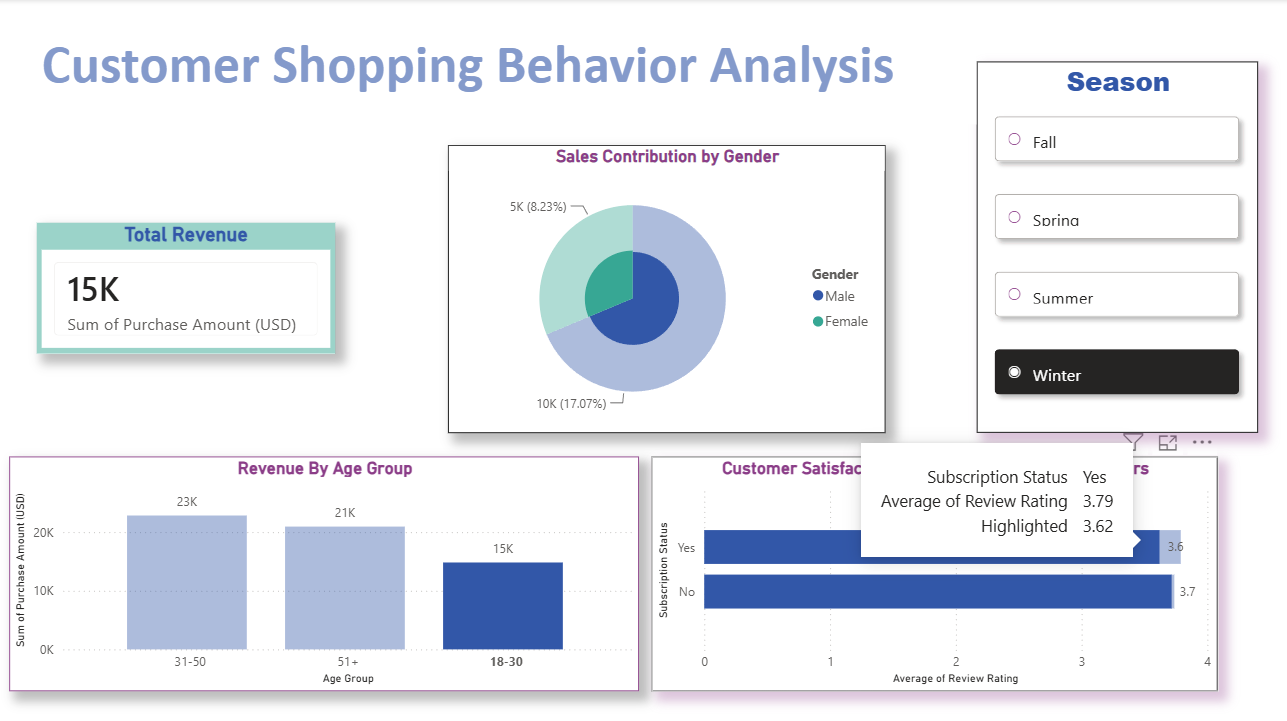

The dashboard page shown, as its layout file describes it:
{"tool":"powerbi","page":{"name":"Page 1","canvas":[1280,720],"ordinal":0},"visuals":[{"type":"cardVisual","title":"Total Revenue","fields":{"Data":["Sum(customer_shopping_behavior_1.Purchase Amount (USD))"]},"box":[37.9,218.9,292.3,128.4],"z":0},{"type":"pieChart","title":"Sales Contribution by Gender","fields":{"Category":["customer_shopping_behavior_1.Gender"],"Y":["Sum(customer_shopping_behavior_1.Purchase Amount (USD))"]},"box":[440.2,143.1,428,281.3],"z":1},{"type":"clusteredColumnChart","title":"Revenue By Age Group","fields":{"Category":["customer_shopping_behavior_1.Age Group"],"Y":["Sum(customer_shopping_behavior_1.Purchase Amount (USD))"]},"box":[11,447.6,616.3,229.9],"z":2},{"type":"clusteredBarChart","title":"Customer Satisfaction: Subscribers vs Non-Subscribers","fields":{"Y":["Avg(customer_shopping_behavior_1.Review Rating)"],"Category":["customer_shopping_behavior_1.Subscription Status"]},"box":[639.5,447.6,553.9,229.9],"z":3},{"type":"advancedSlicerVisual","fields":{"Values":["customer_shopping_behavior_1.Season"]},"box":[957.5,61.1,275.1,363.2],"z":4},{"type":"textbox","box":[37.9,25.7,919.6,96.6],"z":5}]}

Visuals, with their boxes in screenshot pixels (x1, y1, x2, y2), scaled from the page's 1280x720 canvas onto the 1287x721 screenshot:
"Total Revenue" cardVisual: locate(38, 219, 332, 348)
"Sales Contribution by Gender" pieChart: locate(443, 143, 873, 425)
"Revenue By Age Group" clusteredColumnChart: locate(11, 448, 631, 678)
"Customer Satisfaction: Subscribers vs Non-Subscribers" clusteredBarChart: locate(643, 448, 1200, 678)
advancedSlicerVisual - customer_shopping_behavior_1.Season: locate(963, 61, 1239, 425)
textbox: locate(38, 26, 963, 122)
